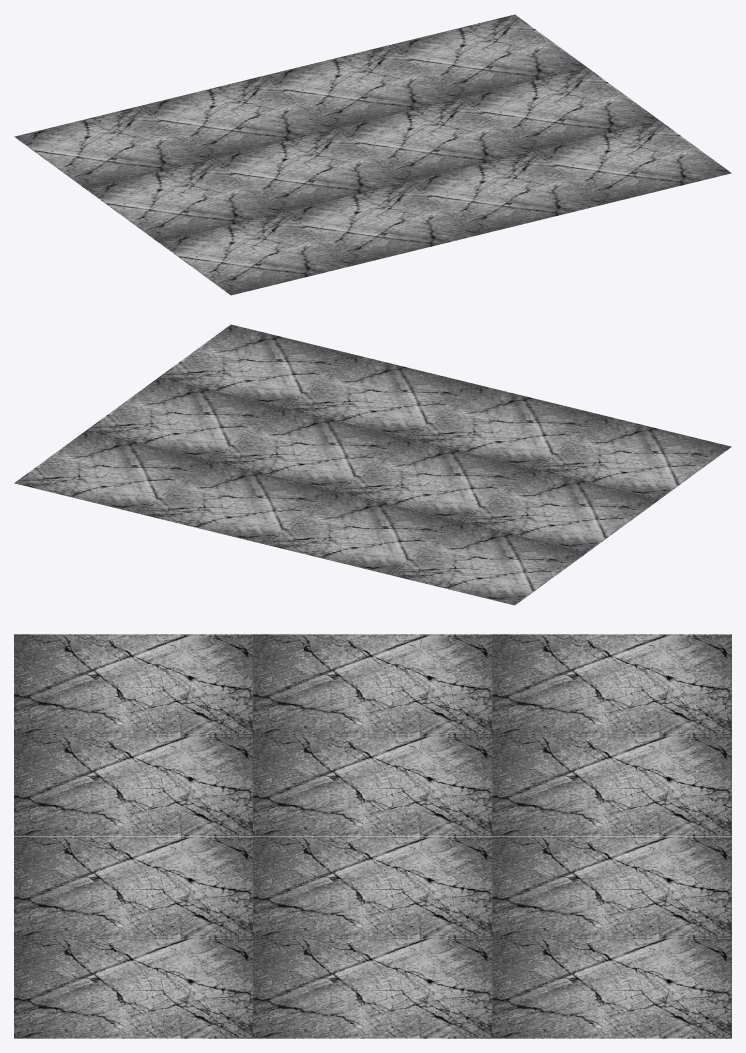
File: ground.obj
The picture shows the model from 3 angles, top to bottom: view 1: azimuth 30°, elevation 25°; view 2: azimuth 150°, elevation 25°; view 3: azimuth 270°, elevation 25°; orthographic projection. The views are drawn at different scales.
Parts seen in each view (by area): view 1: Plane.001_Plane.006; view 2: Plane.001_Plane.006; view 3: Plane.001_Plane.006.
Boxes of the visible parts, <box> form: Plane.001_Plane.006: <box>14,14,731,295</box>; Plane.001_Plane.006: <box>14,324,731,605</box>; Plane.001_Plane.006: <box>14,634,731,1038</box>.
Size of the model in its own units: 866 by 0 by 649.
Materials: 16 (16 with a texture image).
